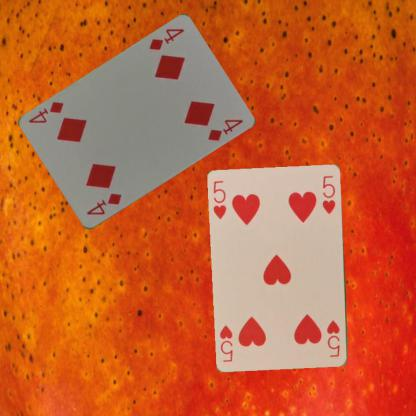4d: (83, 190, 123, 216), (146, 26, 186, 52)
5h: (210, 178, 228, 221), (324, 318, 342, 359)
